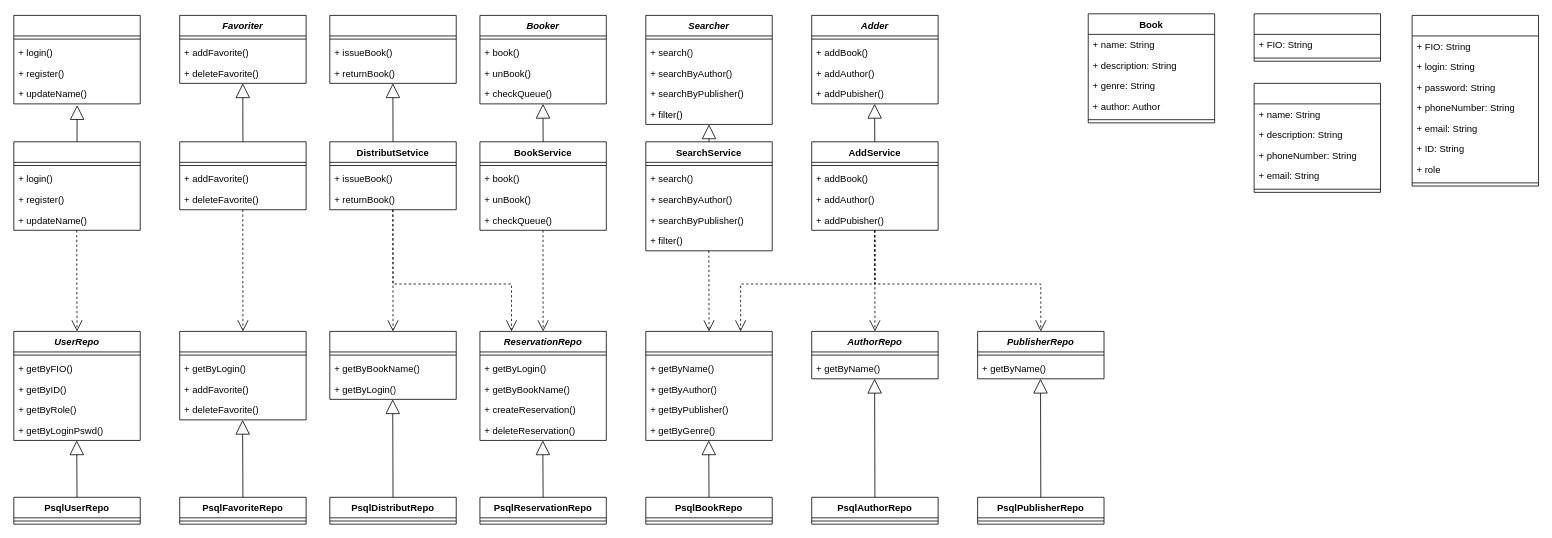
The diagram is 1552 pixels wide and 538 high, and some of its shapes have lost their labels. The shapes that lost their labels are listed below. From the top down, each one's box as (x1, y1, x2, y2) in pixels, then its label:
(329, 15, 456, 83): Distributor
(1253, 13, 1381, 61): Author
(13, 15, 140, 104): Authorizer
(1411, 15, 1539, 186): User
(1253, 83, 1381, 192): Publisher
(13, 141, 140, 230): AuthService
(179, 141, 306, 210): FavoriteService
(179, 331, 306, 420): FavoriteRepo
(329, 331, 456, 399): DistributRepo
(645, 331, 772, 440): BookRepo
